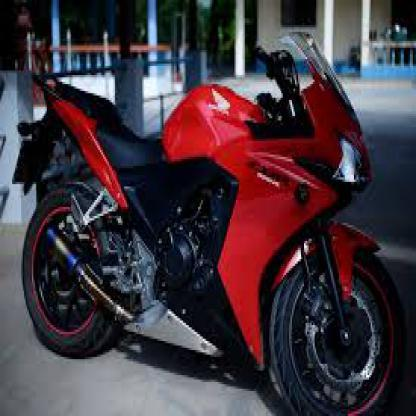Motorcycle: (14, 14, 412, 414)
